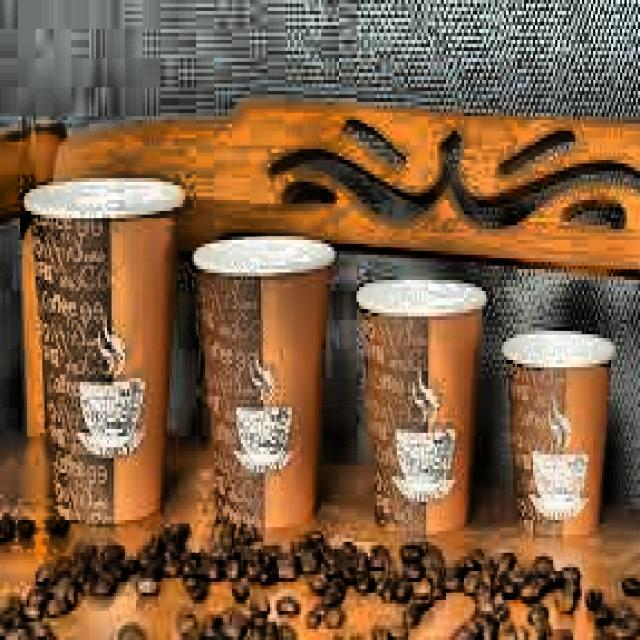Cup: (30, 169, 184, 524), (191, 231, 335, 539), (358, 269, 486, 535), (503, 325, 618, 556)
